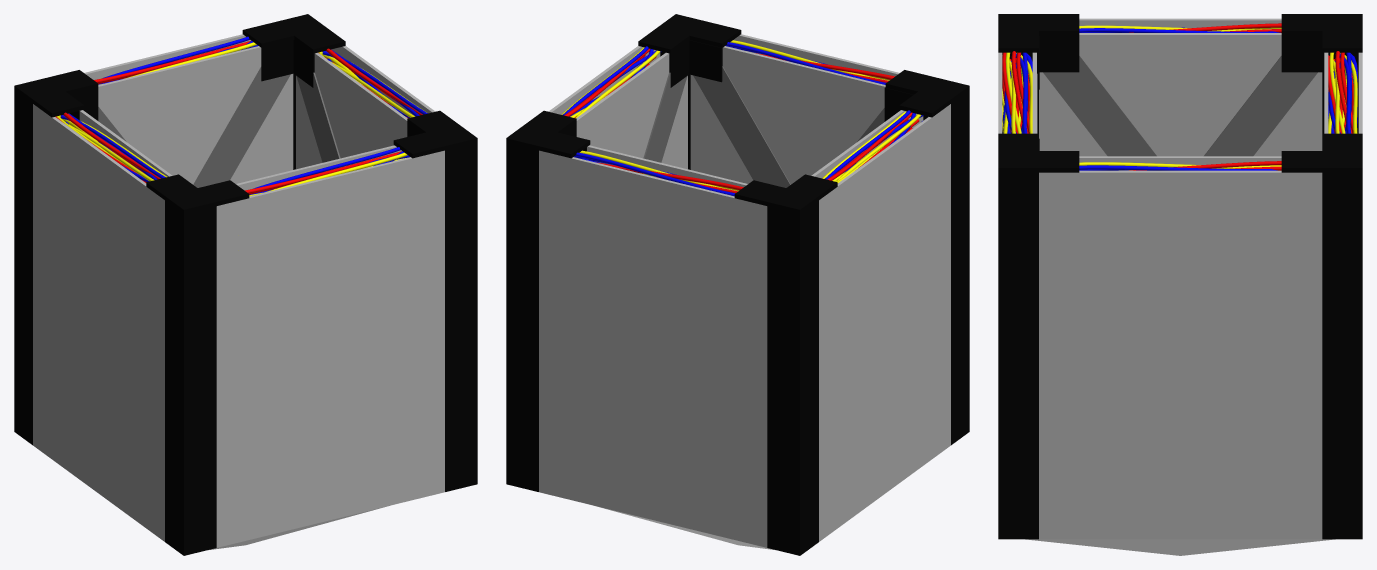
The model's file is SirenRoom.fbx.
3 views of the same model, side by side, from view 1: azimuth 30°, elevation 25°; view 2: azimuth 150°, elevation 25°; view 3: azimuth 270°, elevation 25° (orthographic). The views are drawn at different scales.
Parts seen in each view (by area): view 1: 立方体.001, 立方体.005, Cube.002, 立方体.003, Cube.003, Cube.001, 立方体.007, 立方体.030, Cube, 立方体.013, 立方体.002, 立方体.027 (+14 smaller); view 2: 立方体.002, 立方体.005, Cube.001, 立方体, Cube, Cube.002, 立方体.007, 立方体.024, Cube.003, 立方体.012, 立方体.001, 立方体.021 (+12 smaller); view 3: 立方体.006, 立方体.004, Cube, Cube.003, 立方体.018, 立方体.019, Cube.001, 円錐, Cube.002, 立方体.005, 立方体.014, 立方体.015 (+13 smaller).
Boxes of the visible parts, x1,y1,x2,y2 form: 立方体.001: [216, 150, 444, 547]; 立方体.005: [33, 104, 164, 541]; Cube.002: [146, 174, 249, 555]; 立方体.003: [98, 46, 293, 184]; Cube.003: [393, 110, 477, 491]; Cube.001: [14, 70, 98, 445]; 立方体.007: [296, 52, 407, 169]; 立方体.030: [193, 67, 290, 187]; Cube: [242, 14, 345, 169]; 立方体.013: [296, 72, 340, 162]; 立方体.002: [84, 34, 250, 79]; 立方体.027: [261, 40, 293, 81]; 立方体.002: [539, 150, 767, 547]; 立方体.005: [819, 104, 950, 541]; Cube.001: [734, 174, 837, 555]; 立方体: [690, 46, 885, 184]; Cube: [506, 110, 590, 491]; Cube.002: [885, 70, 969, 445]; 立方体.007: [576, 52, 687, 169]; 立方体.024: [693, 66, 790, 187]; Cube.003: [638, 14, 741, 169]; 立方体.012: [643, 72, 687, 162]; 立方体.001: [733, 34, 899, 80]; 立方体.021: [689, 40, 722, 82]; 立方体.006: [1039, 170, 1322, 539]; 立方体.004: [1039, 33, 1322, 156]; Cube: [1281, 133, 1362, 539]; Cube.003: [998, 133, 1079, 539]; 立方体.018: [1043, 55, 1156, 156]; 立方体.019: [1204, 56, 1317, 156]; Cube.001: [1281, 14, 1362, 133]; 円錐: [1025, 539, 1335, 555]; Cube.002: [998, 14, 1079, 133]; 立方体.005: [1079, 18, 1281, 28]; 立方体.014: [1281, 35, 1322, 72]; 立方体.015: [1039, 35, 1079, 72].
Size of the model in its own units: 900 by 1268 by 900.
